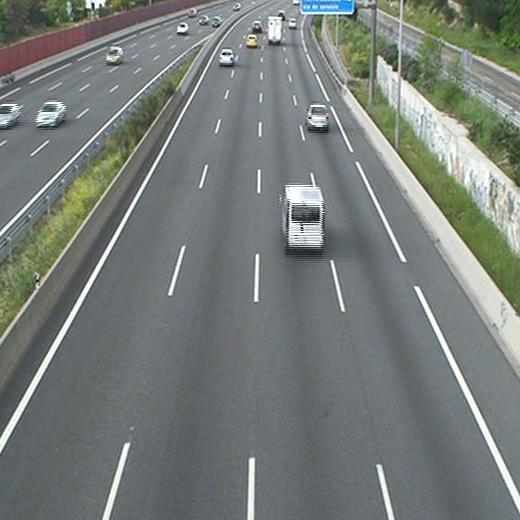car: (306, 104, 330, 132), (218, 48, 234, 67), (245, 35, 259, 47)
small-truck: (267, 15, 282, 43)
van: (279, 183, 325, 254)
